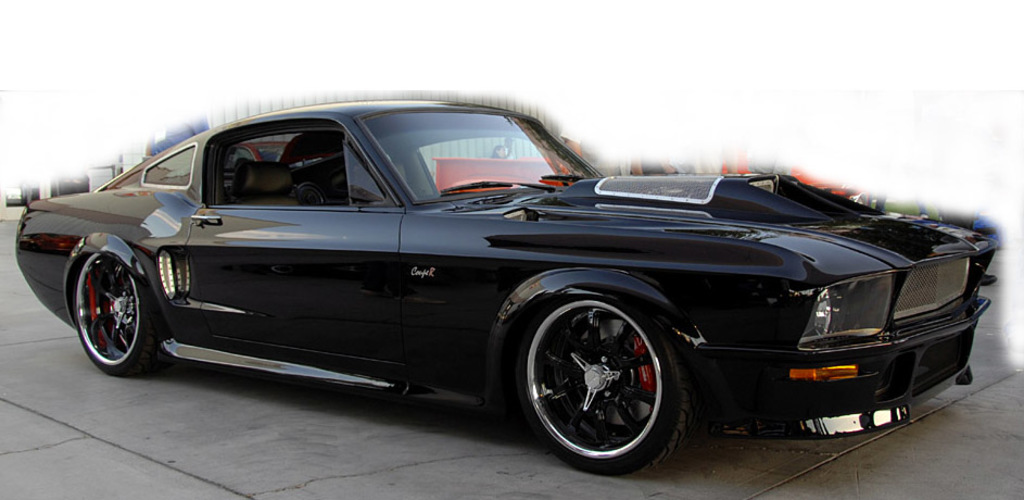Car: (3, 110, 995, 459)
